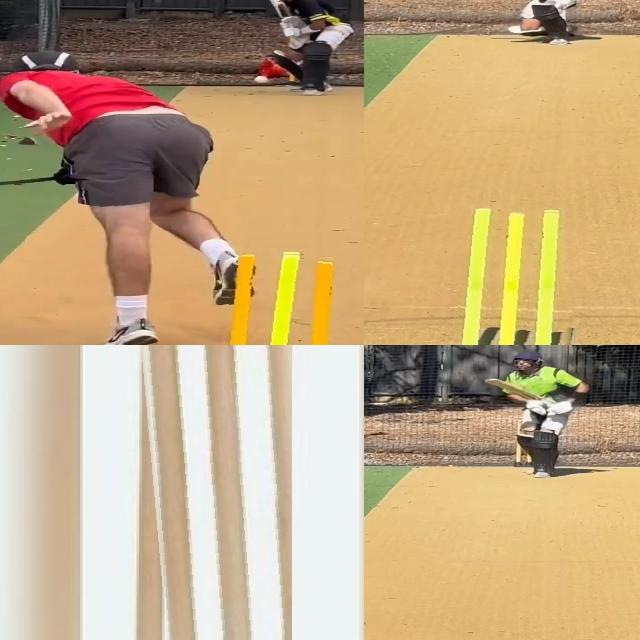Cricket ball: (253, 75, 269, 84)
Stumps: (133, 345, 292, 640), (458, 208, 582, 345), (221, 251, 353, 345)
